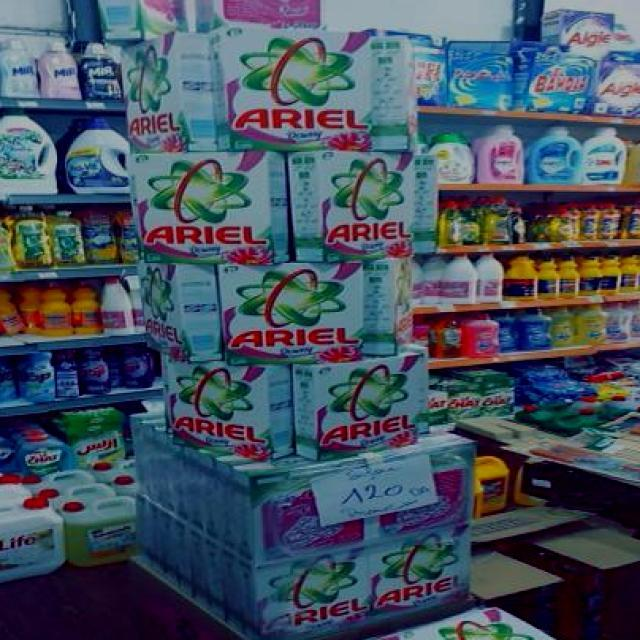Detergent: (215, 27, 376, 154), (160, 353, 322, 468), (138, 154, 292, 262), (290, 140, 423, 264), (215, 258, 366, 360), (294, 352, 428, 456), (369, 532, 479, 618), (259, 558, 375, 638)
